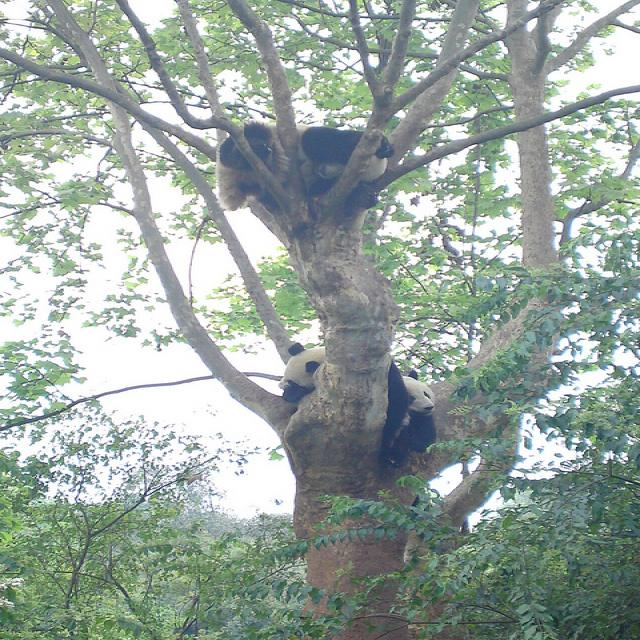Bear: (200, 116, 384, 209), (378, 351, 442, 473), (262, 339, 351, 404)
